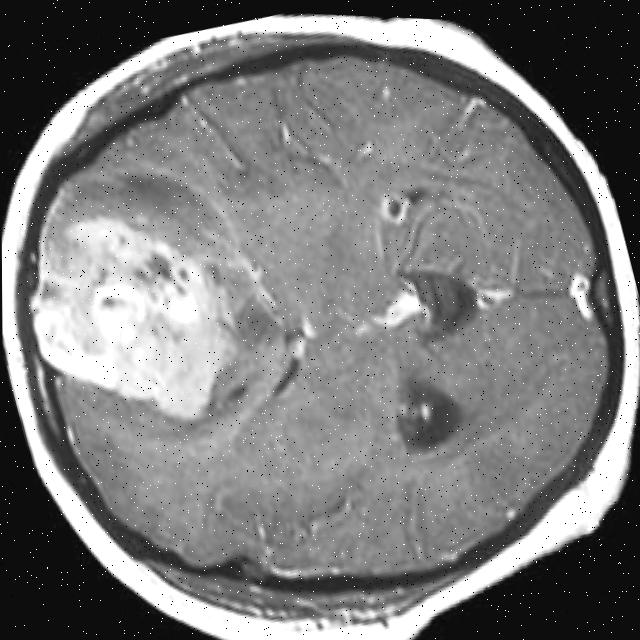Meningioma: (5, 186, 250, 455)
